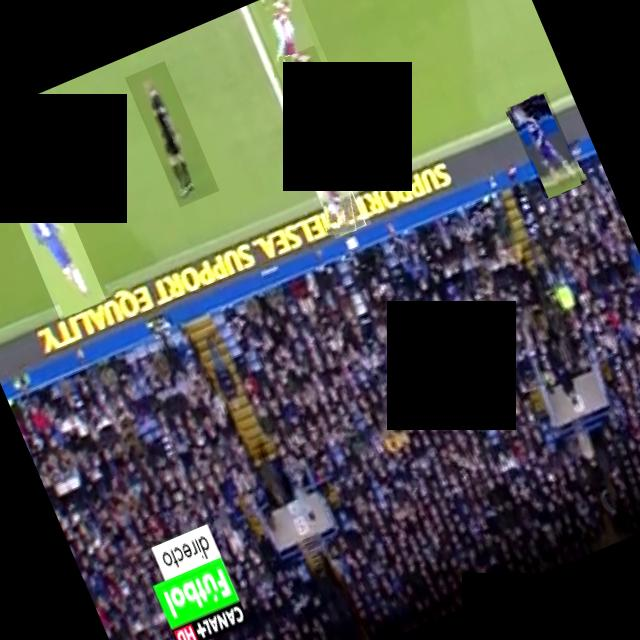referee: (123, 60, 218, 206)
soccer-player: (5, 173, 105, 319), (506, 90, 584, 200), (282, 44, 355, 157), (295, 132, 370, 238), (247, 0, 327, 82)
